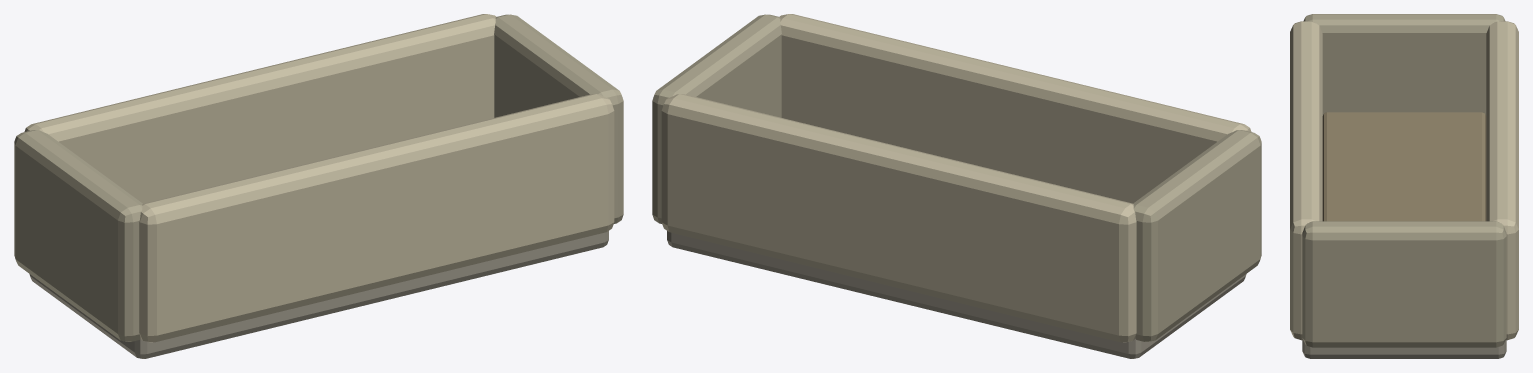
Rendered from Water_Trough_Barren.glb.
3 renders of one model, left to right at view 1: azimuth 30°, elevation 25°; view 2: azimuth 150°, elevation 25°; view 3: azimuth 270°, elevation 25°, orthographic. The views are drawn at different scales.
Visible parts, largest first — view 1: Structure; view 2: Structure; view 3: Structure.
Boxes of the visible parts, bbox=[...] form: Structure: bbox=[14, 14, 623, 358]; Structure: bbox=[652, 14, 1261, 358]; Structure: bbox=[1290, 14, 1518, 358].
Size of the model in its own units: 2.56 by 0.745 by 1.12.
